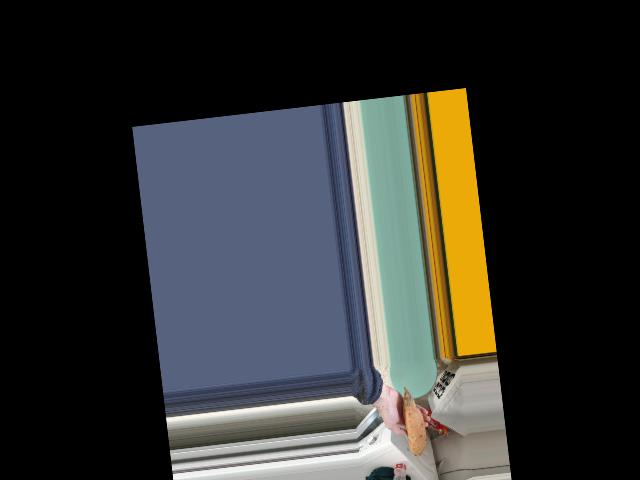sweet_potato: (399, 388, 428, 457)
